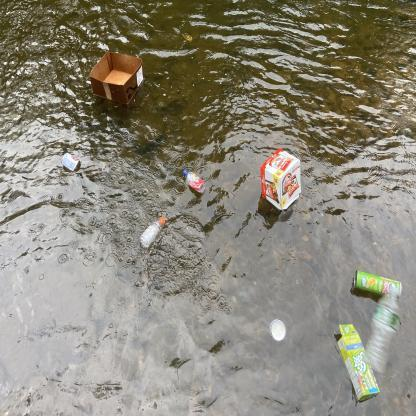trash: (361, 284, 404, 376), (335, 320, 382, 403), (88, 48, 148, 108), (258, 146, 303, 214), (351, 268, 403, 302), (136, 214, 169, 252), (180, 166, 208, 197), (59, 152, 82, 176), (268, 317, 288, 343)
